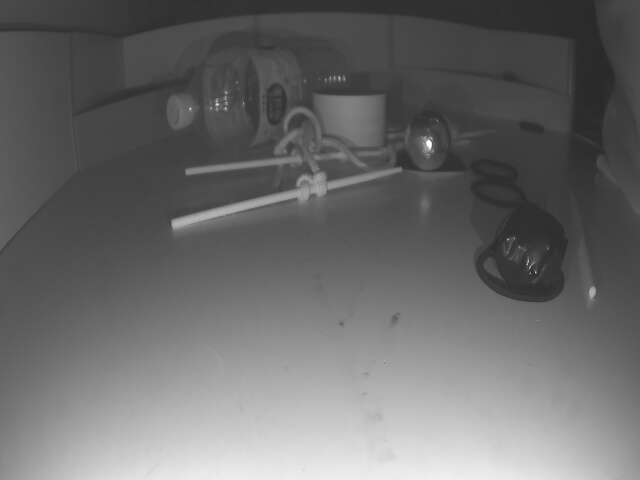Dead: (498, 201, 564, 288)
Live: (408, 108, 450, 174)
Point: (405, 68, 569, 133), (73, 83, 179, 169)
